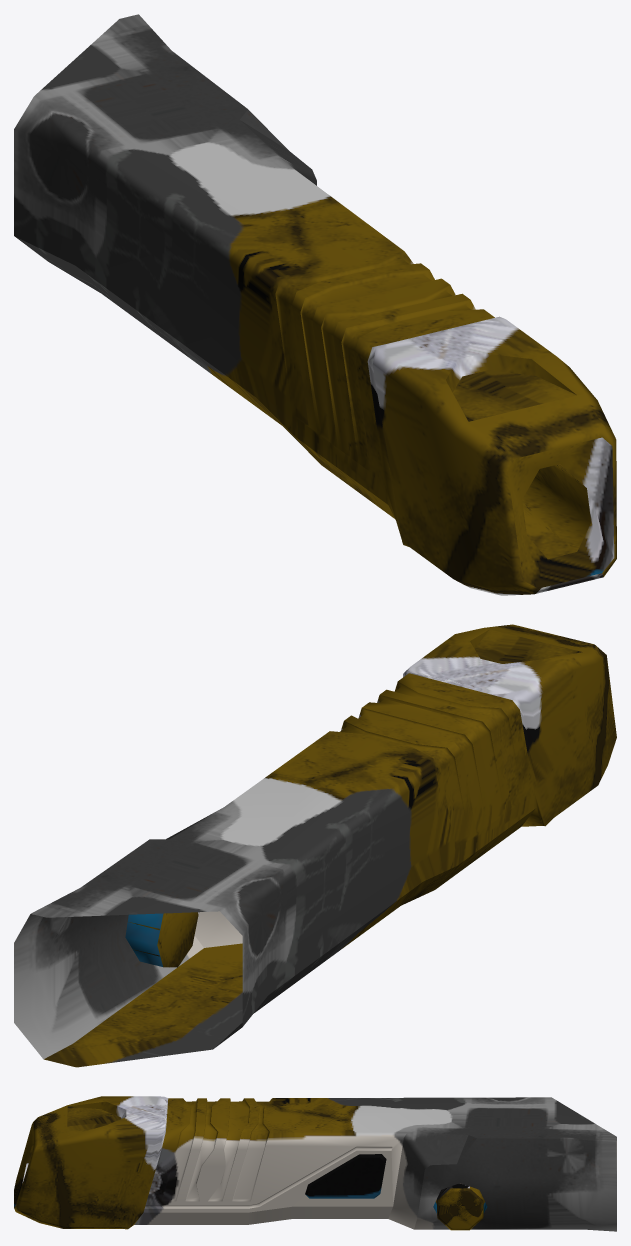
Rendered from ME_Huge_L_Cannon.fbx.
3 renders of one model, top to bottom at view 1: azimuth 30°, elevation 25°; view 2: azimuth 150°, elevation 25°; view 3: azimuth 270°, elevation 25°, orthographic. The views are drawn at different scales.
Visible parts, largest first — view 1: ME_Huge_L_Cannon; view 2: ME_Huge_L_Cannon; view 3: ME_Huge_L_Cannon.
Boxes of the visible parts, <box> form: ME_Huge_L_Cannon: <box>14,14,616,595</box>; ME_Huge_L_Cannon: <box>14,624,616,1067</box>; ME_Huge_L_Cannon: <box>14,1096,616,1231</box>.
Size of the model in its own units: 60.25 by 49.35 by 269.
